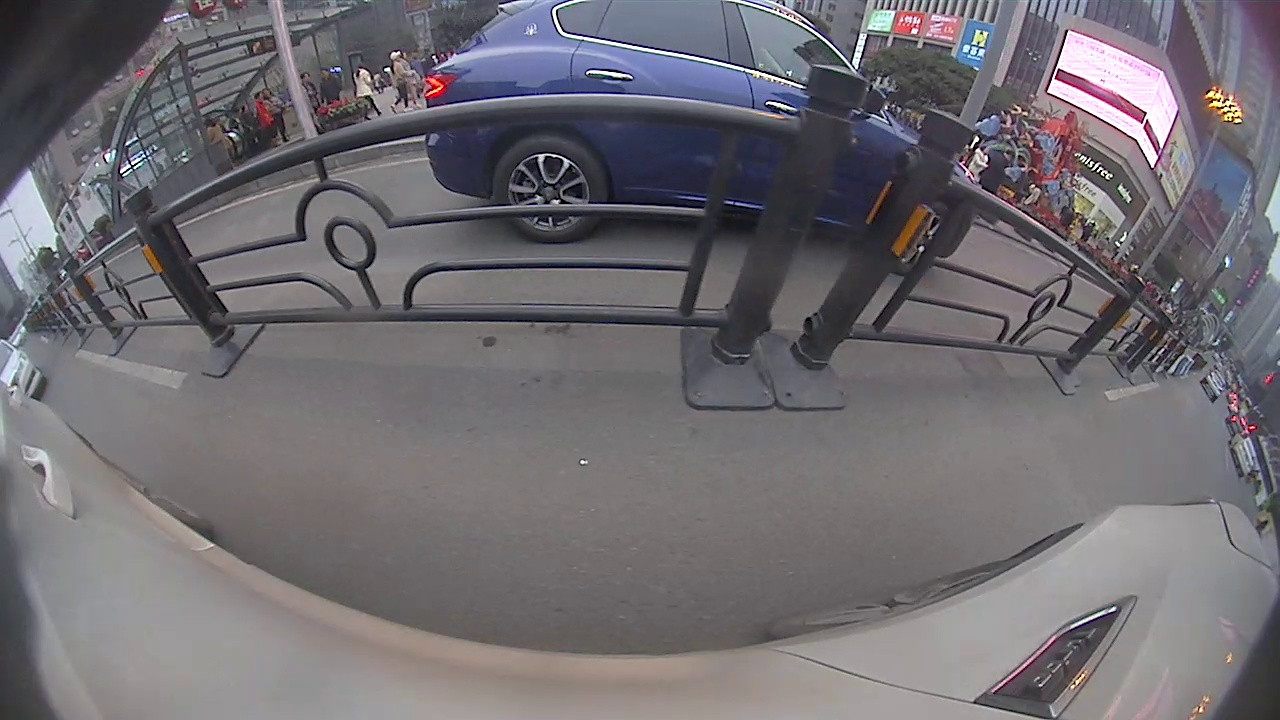car: (423, 1, 978, 277), (1232, 434, 1259, 479)
rear: (493, 129, 610, 245)
